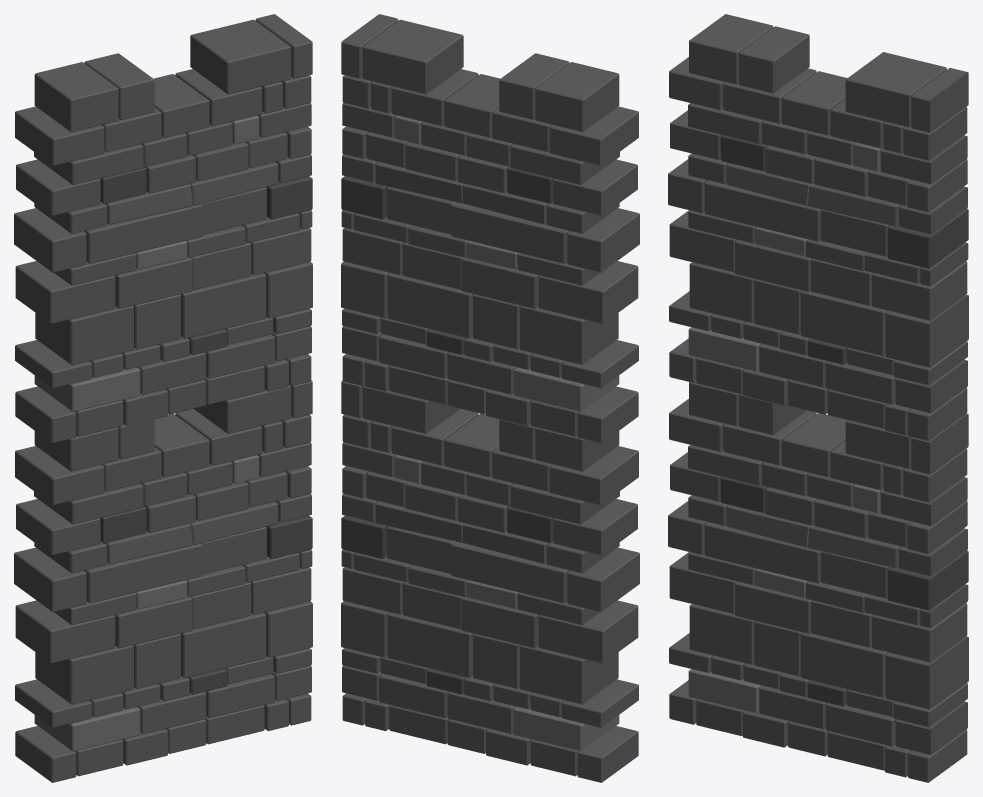
The model's file is wallside_nowindow.fbx.
3 renders of one model, left to right at view 1: azimuth 30°, elevation 25°; view 2: azimuth 150°, elevation 25°; view 3: azimuth 330°, elevation 25°, orthographic.
Parts seen in each view (by area): view 1: Wall.002, Wall.006; view 2: Wall.002, Wall.006; view 3: Wall.002, Wall.006.
Boxes of the visible parts, left/top/right/bottom form: Wall.002: left=14, top=14, right=312, bottom=443; Wall.006: left=14, top=380, right=312, bottom=782; Wall.002: left=341, top=14, right=639, bottom=443; Wall.006: left=341, top=380, right=639, bottom=782; Wall.002: left=668, top=14, right=968, bottom=440; Wall.006: left=668, top=381, right=968, bottom=782.
Size of the model in its own units: 80.01 by 199 by 21.4.
